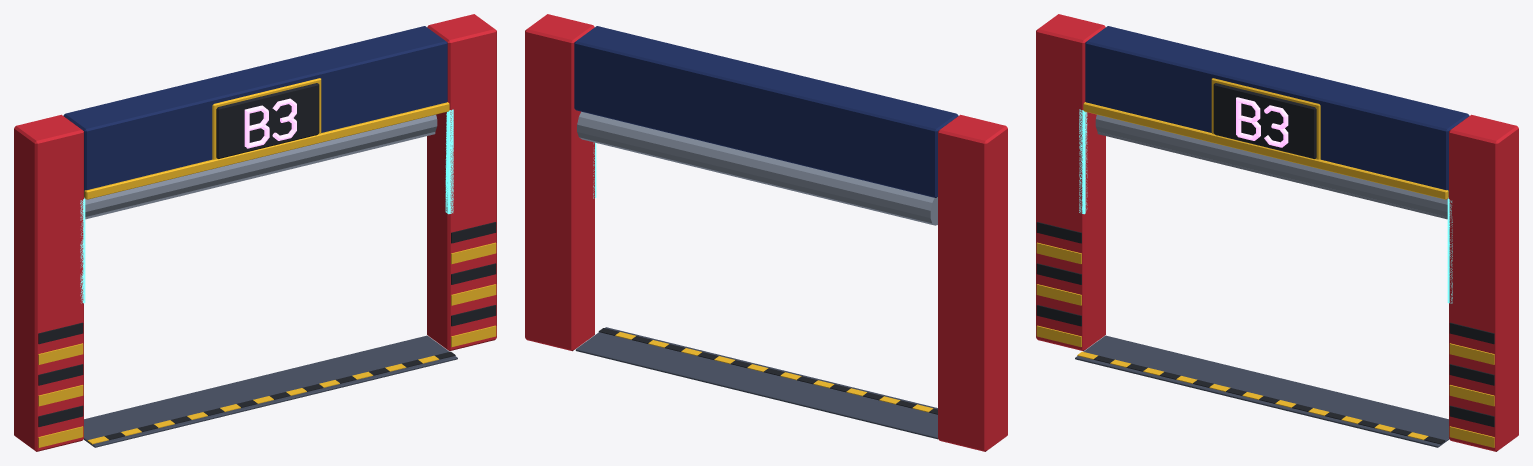
The model's file is GarageFront_B3.fbx.
3 views of the same model, side by side, from view 1: azimuth 30°, elevation 25°; view 2: azimuth 150°, elevation 25°; view 3: azimuth 330°, elevation 25° (orthographic).
Parts seen in each view (by area): view 1: GarageFront_B3, Neon_Cyan, Neon_Pink; view 2: GarageFront_B3; view 3: GarageFront_B3, Neon_Cyan, Neon_Pink.
Boxes of the visible parts, x1,y1,x2,y2 form: GarageFront_B3: [14, 14, 496, 451]; Neon_Cyan: [80, 109, 453, 303]; Neon_Pink: [244, 98, 296, 148]; GarageFront_B3: [525, 14, 1007, 451]; GarageFront_B3: [1036, 14, 1518, 451]; Neon_Cyan: [1079, 109, 1452, 303]; Neon_Pink: [1236, 97, 1288, 147].
Bounding box in the file's own units: 28 × 18 × 3.53.
3 materials, 1 textured.
